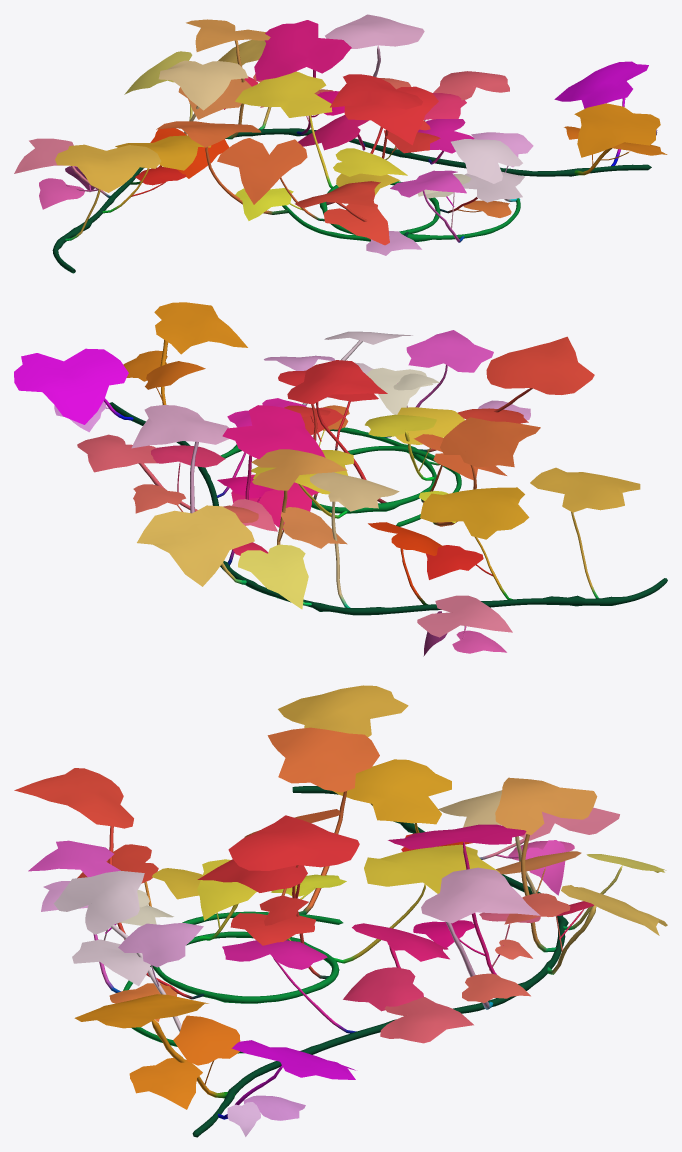
The model's file is English_Ivy_xfcnebhqx_High_xfcnebhqx_VarF_LOD0.fbx.
3 renders of one model, top to bottom at view 1: azimuth 30°, elevation 25°; view 2: azimuth 150°, elevation 25°; view 3: azimuth 270°, elevation 25°, orthographic. The views are drawn at different scales.
Visible parts, largest first — view 1: _jd4m_VarF_LOD0; view 2: _jd4m_VarF_LOD0; view 3: _jd4m_VarF_LOD0.
Boxes of the visible parts, <box> form: _jd4m_VarF_LOD0: <box>14,14,667,273</box>; _jd4m_VarF_LOD0: <box>14,302,667,656</box>; _jd4m_VarF_LOD0: <box>14,685,667,1137</box>.
Bounding box in the file's own units: 59.22 × 13.42 × 43.92.
